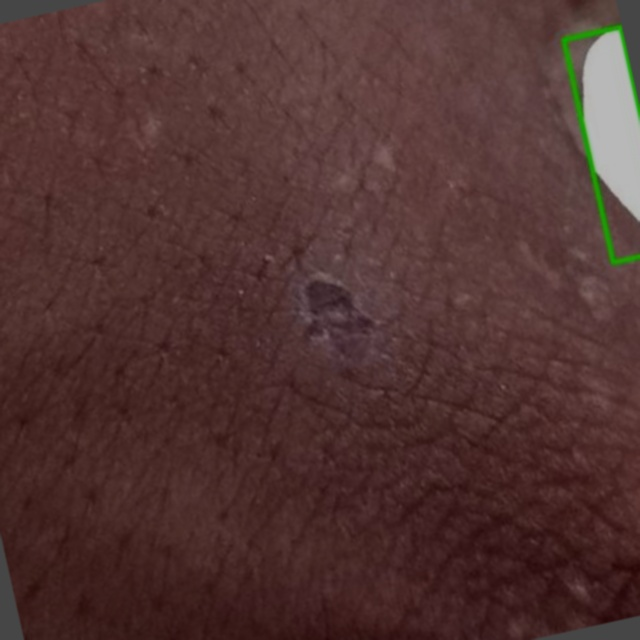Scabies: (563, 26, 639, 262)
